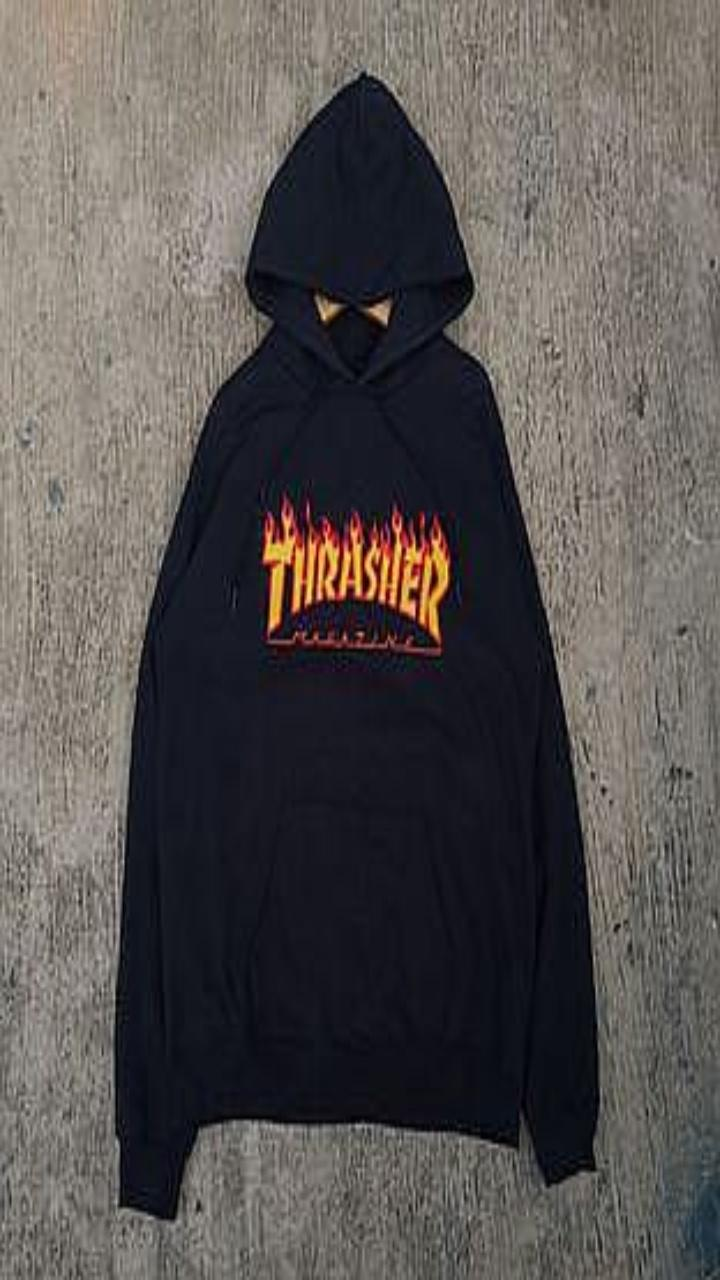Hoodie: (116, 73, 597, 1217)
